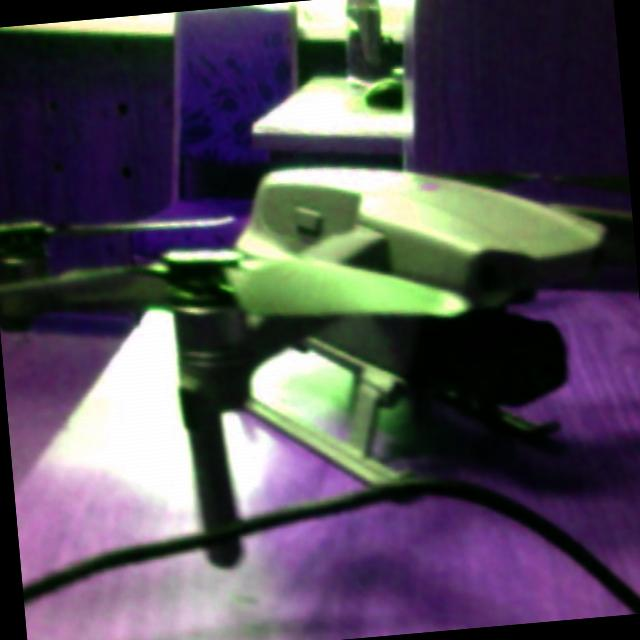drone: (0, 116, 640, 581)
